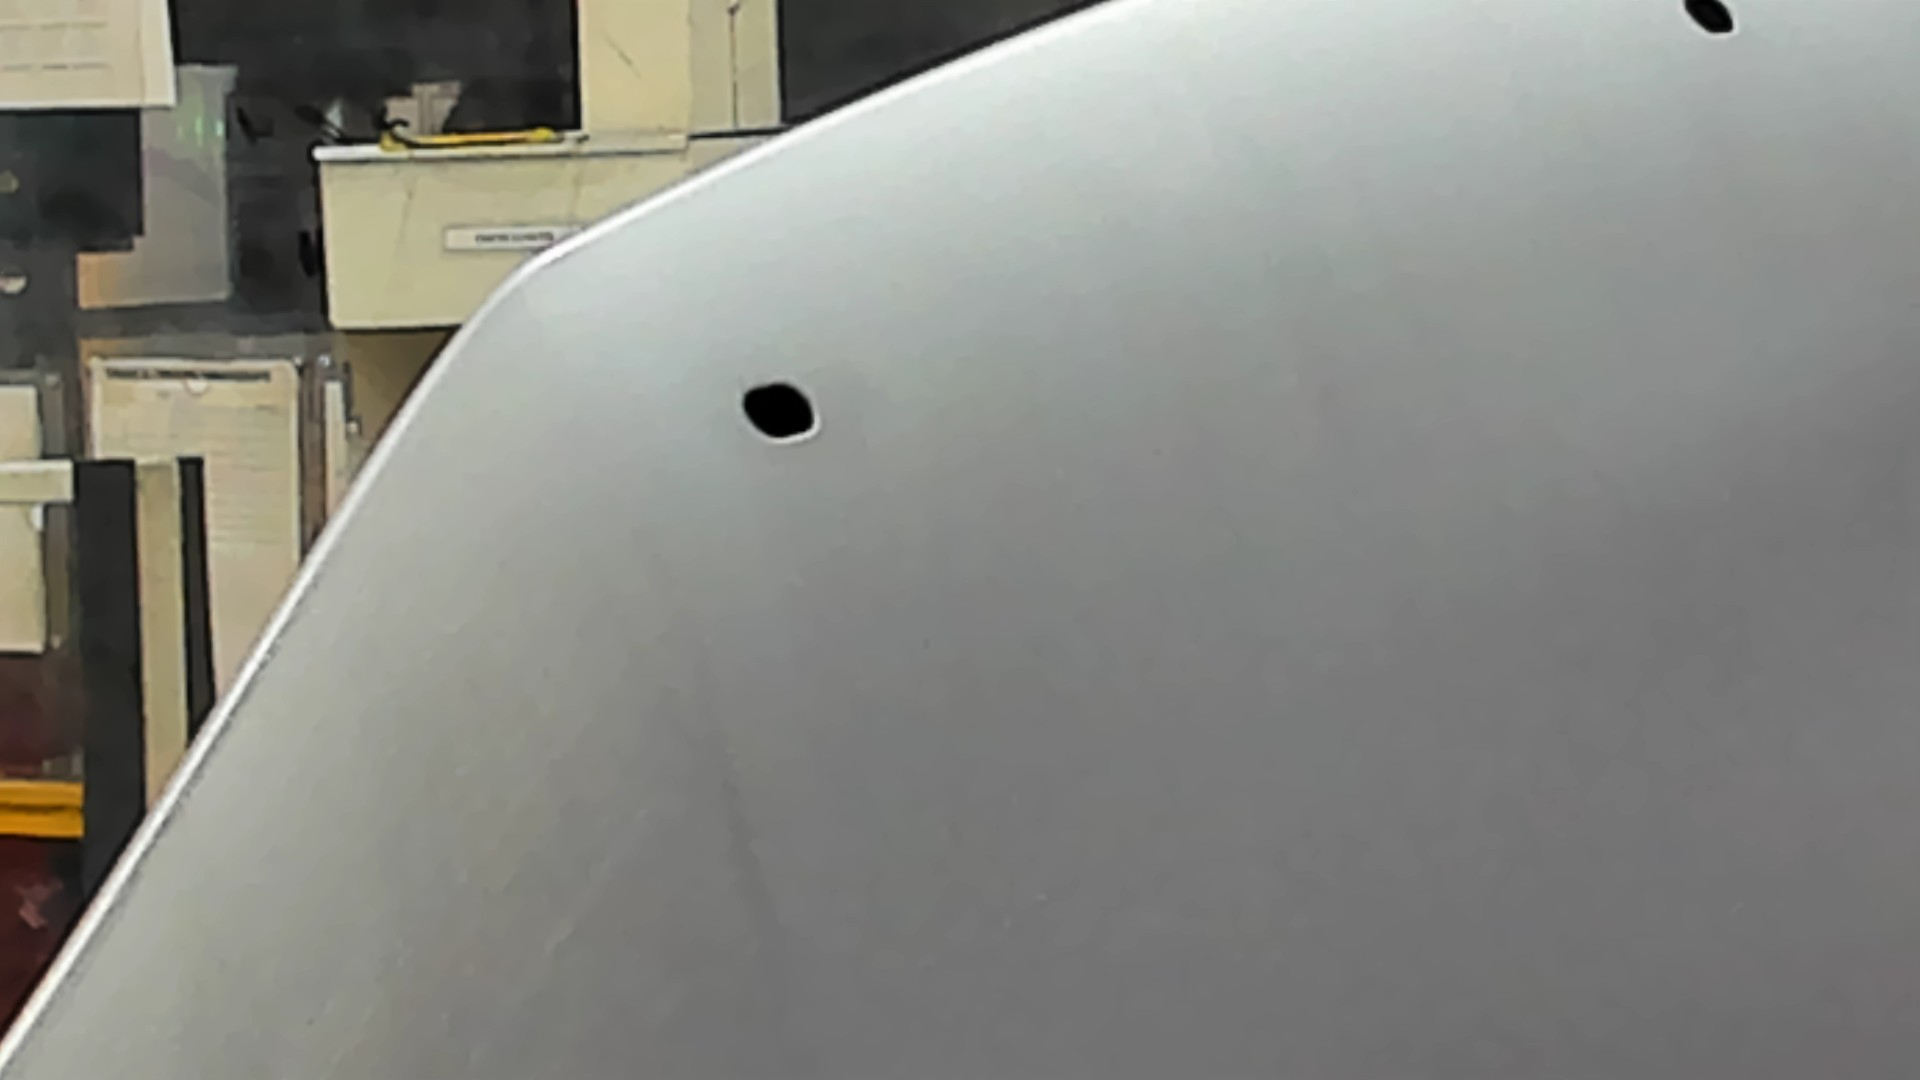Agujero: (732, 375, 827, 447), (1672, 1, 1746, 41)
